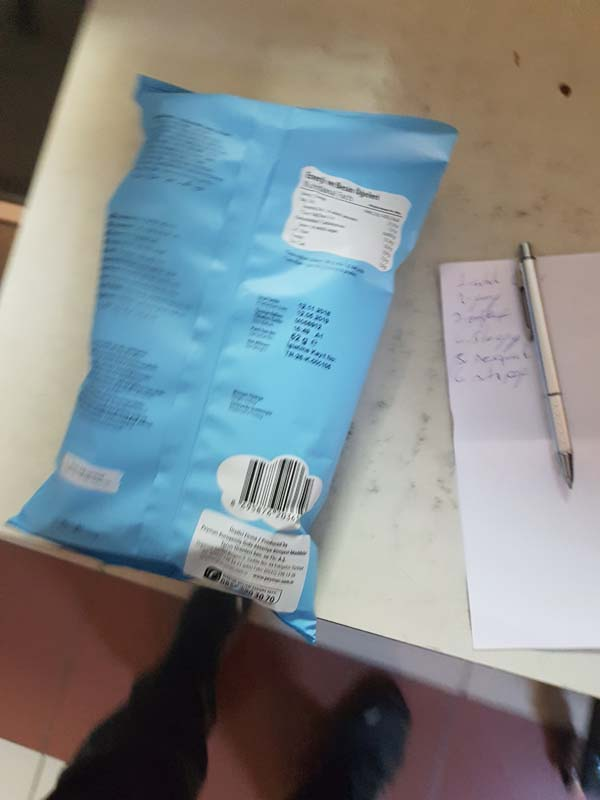popcorn: (15, 43, 469, 673)
